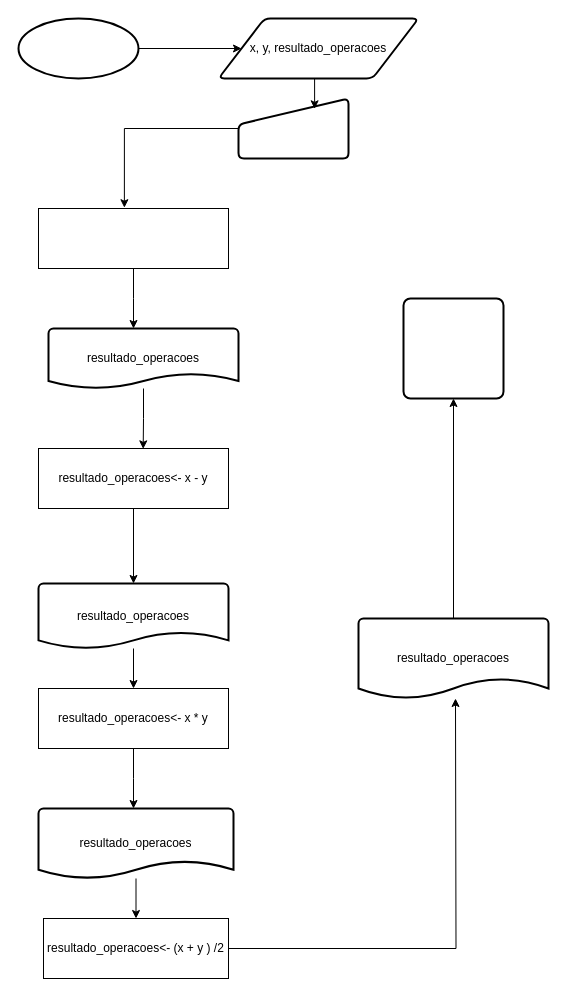
Some shapes in this 566 by 996 pixel diagram are drawn without their labels. The box of each missing label's shape, as (x1, y1, x2, y2) in pixels:
FIM: (402, 297, 504, 399)
INÍCIO: (17, 17, 139, 79)
Ler x Ler y: (237, 97, 349, 159)
resultado_operacoes<- x + y: (38, 208, 228, 268)
